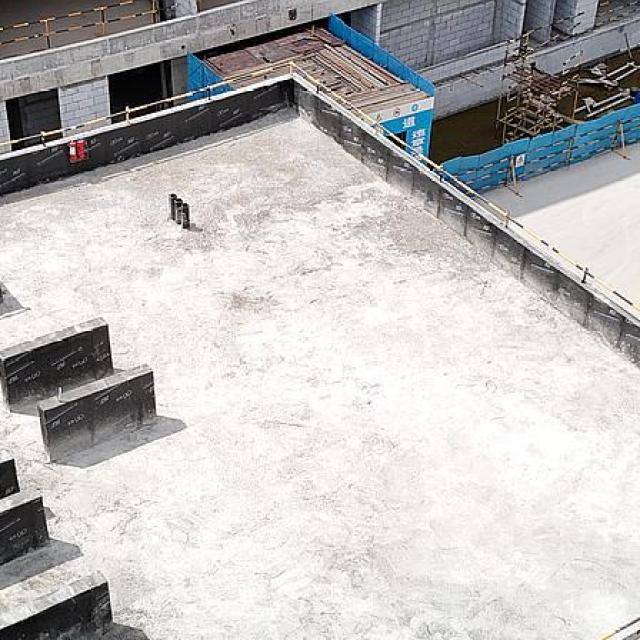Guardrail: (0, 58, 640, 313), (0, 0, 160, 50), (515, 12, 585, 54), (595, 0, 640, 27), (598, 615, 640, 640)
